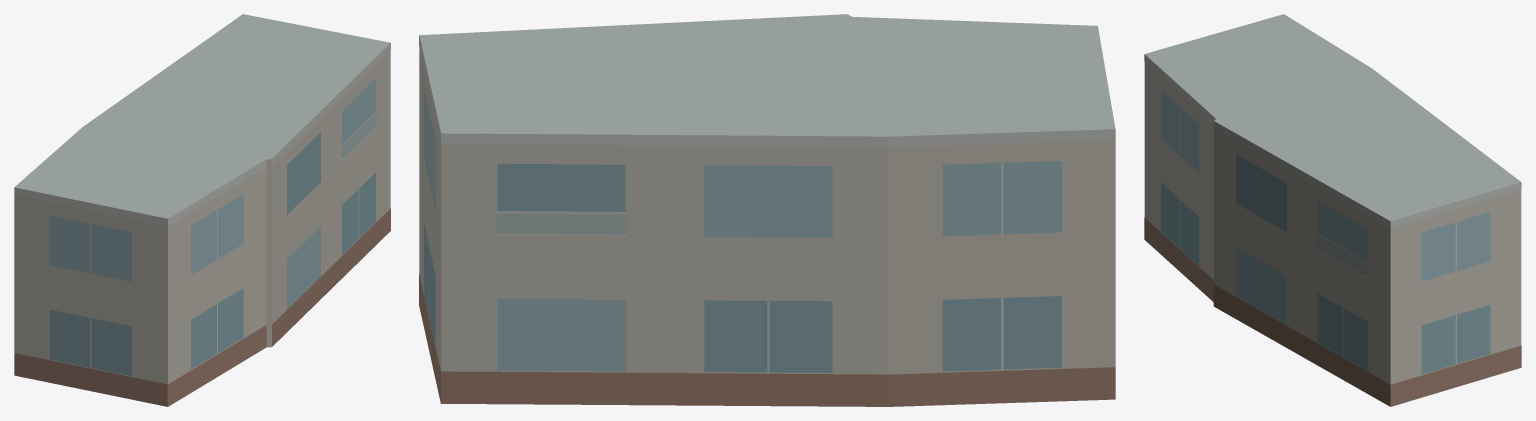
Rendered from survey-upis-32495804.glb.
3 renders of one model, left to right at view 1: azimuth 30°, elevation 25°; view 2: azimuth 150°, elevation 25°; view 3: azimuth 270°, elevation 25°, orthographic. The views are drawn at different scales.
Visible parts, largest first — view 1: survey-upis-32495804.tmp; view 2: survey-upis-32495804.tmp; view 3: survey-upis-32495804.tmp.
Boxes of the visible parts, x1,y1,x2,y2 form: survey-upis-32495804.tmp: (14,14,390,406); survey-upis-32495804.tmp: (419,14,1115,406); survey-upis-32495804.tmp: (1144,14,1521,406).
Bounding box in the file's own units: 14.62 × 6.1 × 11.24.
